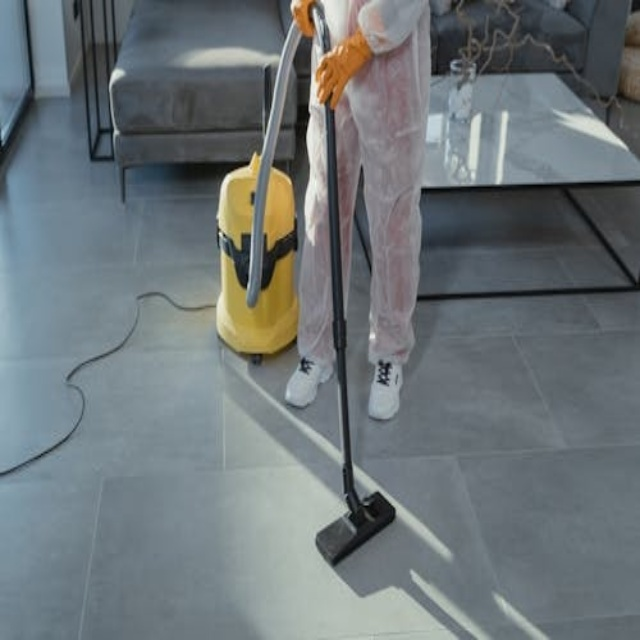Guantes: (315, 28, 373, 108), (291, 0, 321, 39)
